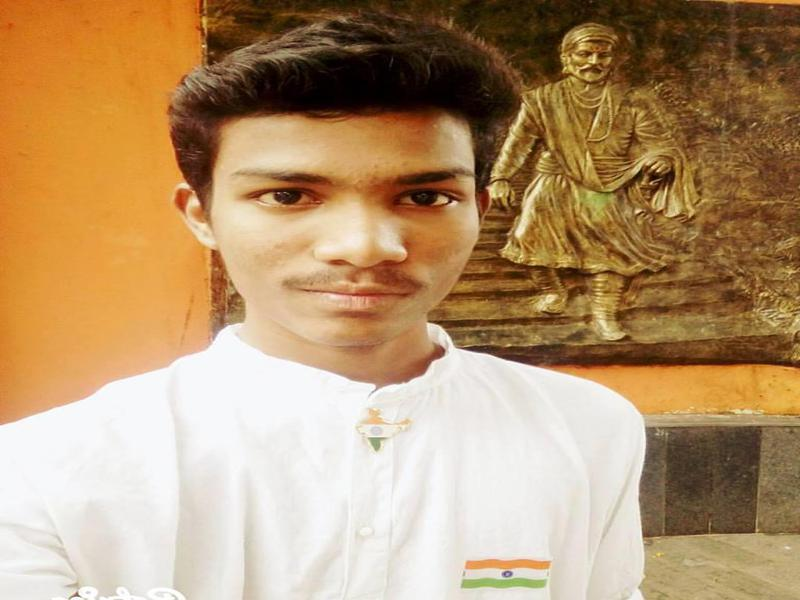without_mask: (214, 108, 476, 361)
